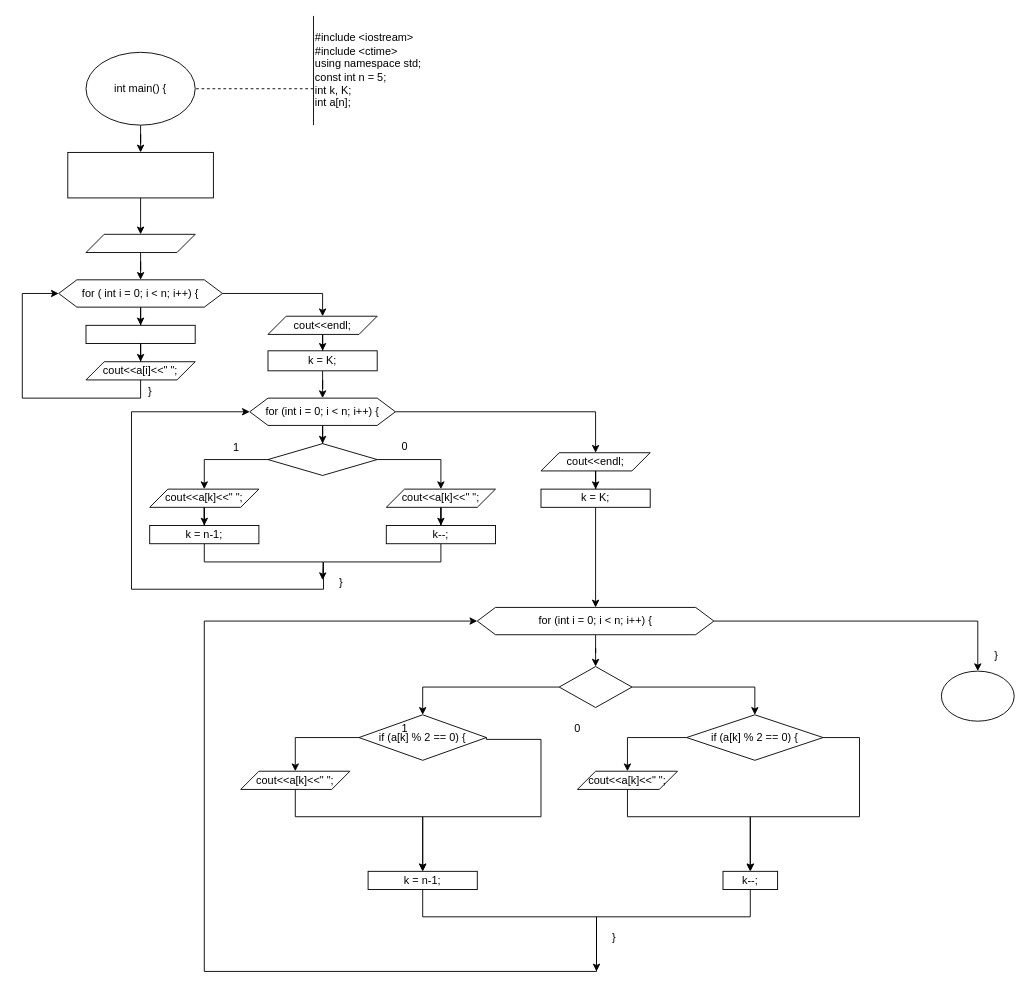
This 1030x995 diagram has some shape labels left out. The centre of each missing label's shape, as x and y in pixels:
a[i] = rand() % 20;: the point at 140,334
cin>>K;: the point at 140,243
if (k == 0) {: the point at 322,459
if (k==0) {: the point at 595,687
return 0;: the point at 977,695
srand(time(NULL)); setlocale(LC_ALL, "RU";: the point at 140,175
